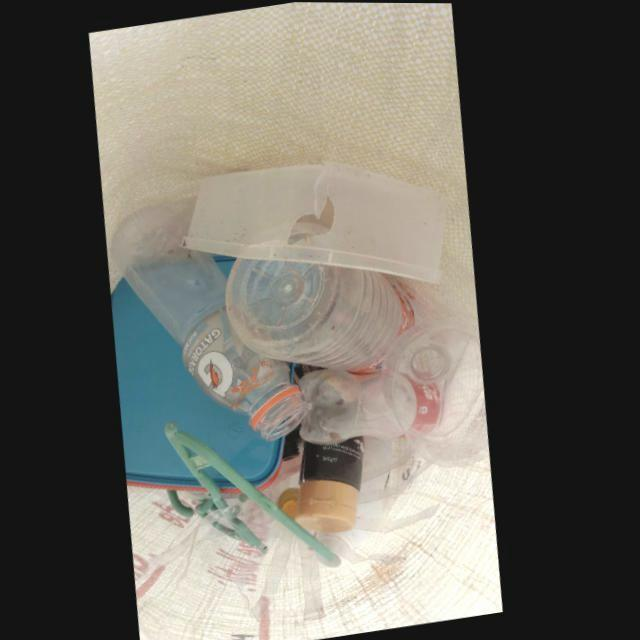plastic_bottle: (114, 204, 315, 441), (230, 256, 420, 373), (305, 367, 412, 444)
plastic_container: (186, 159, 452, 282)
